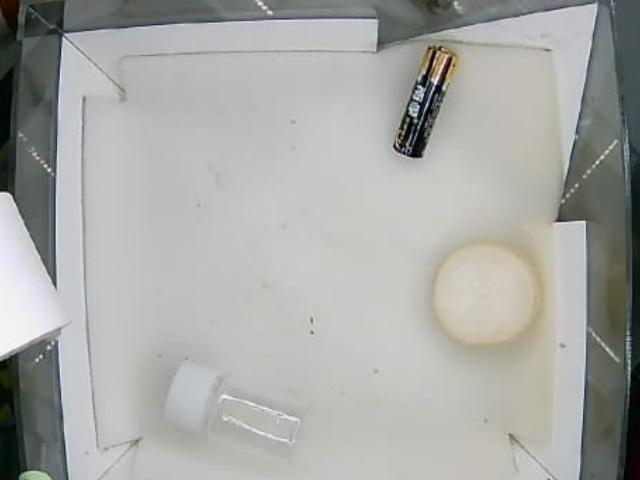Battery: (391, 46, 453, 160)
Bottle: (160, 356, 311, 458)
Mooli: (435, 241, 537, 345)
